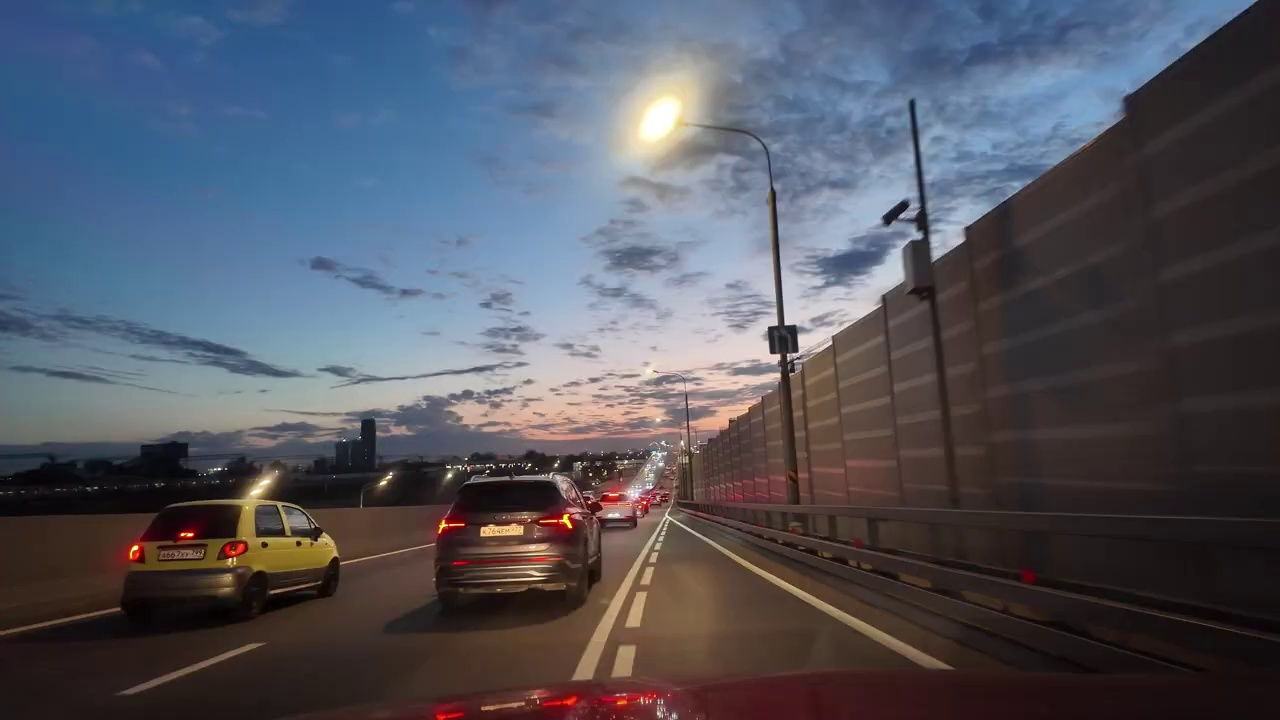acesa: (634, 87, 693, 156)
